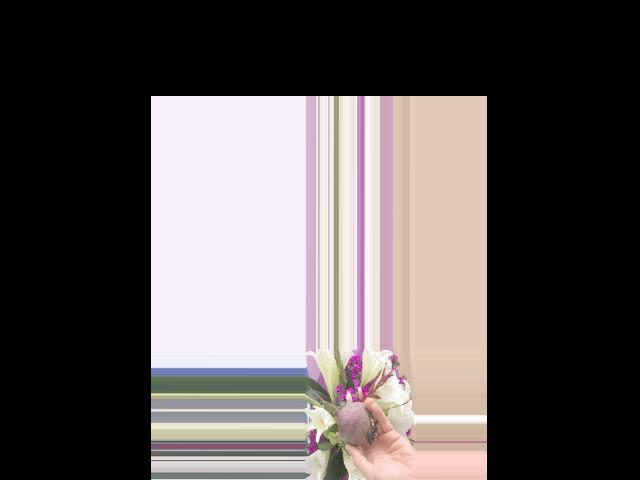beet: (307, 384, 376, 445)
